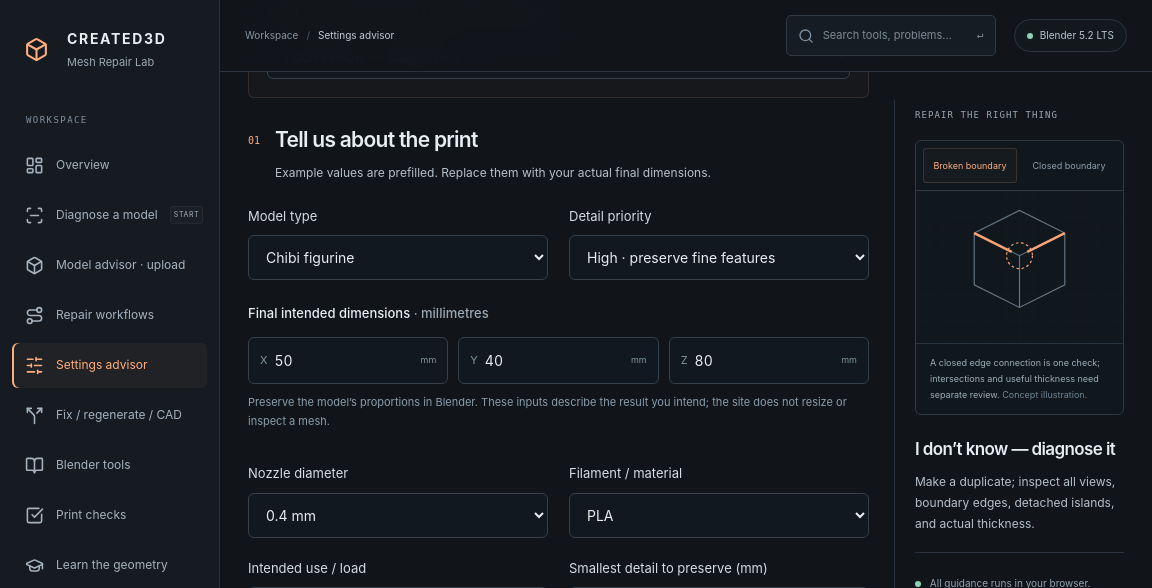
User workflows › prevents calculation with missing physical size
(page scrolled)
Clear the number field named "Z dimension in millimetres": (764, 360) [695, 338, 834, 383]
(page scrolled)
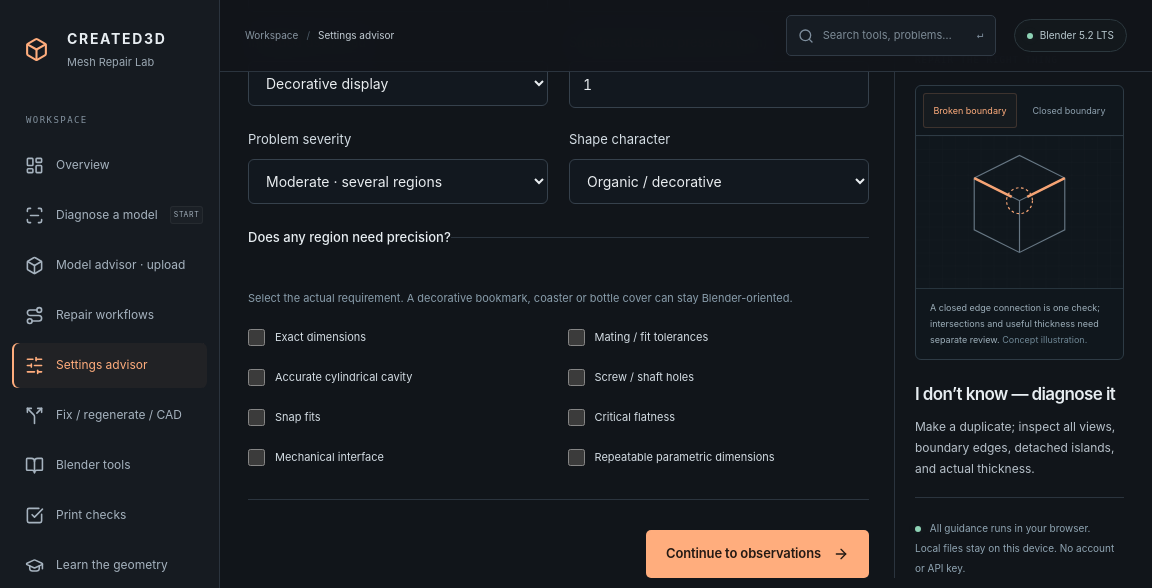
Click the button "Continue to observations": (757, 554) [646, 530, 869, 578]
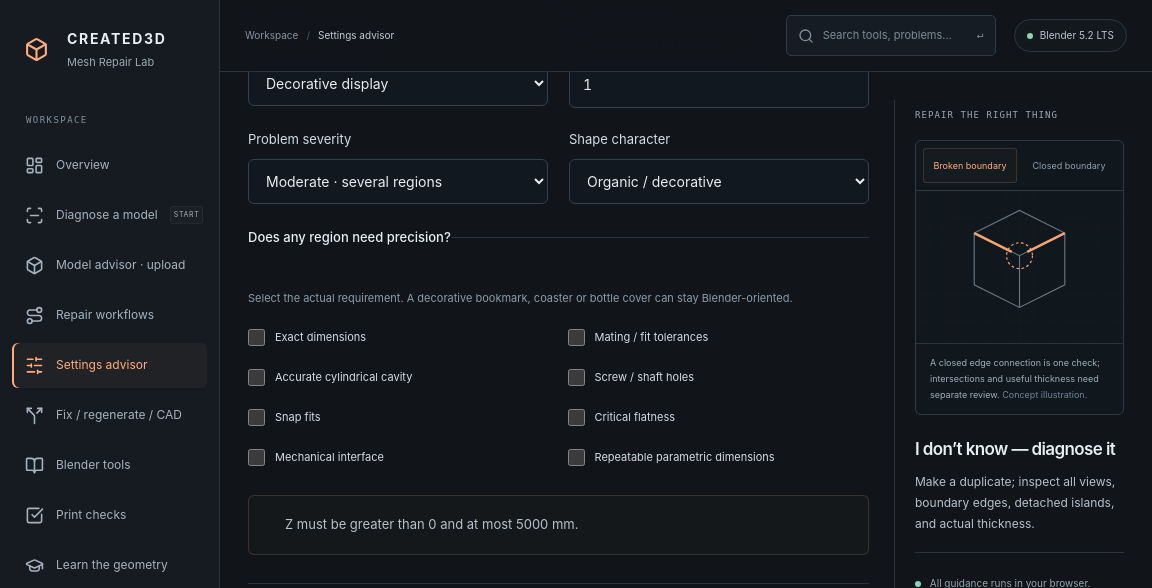
Check: the list item "Z must be greater than 0 and at most 5000 mm." is shown, box [285, 514, 578, 536]
